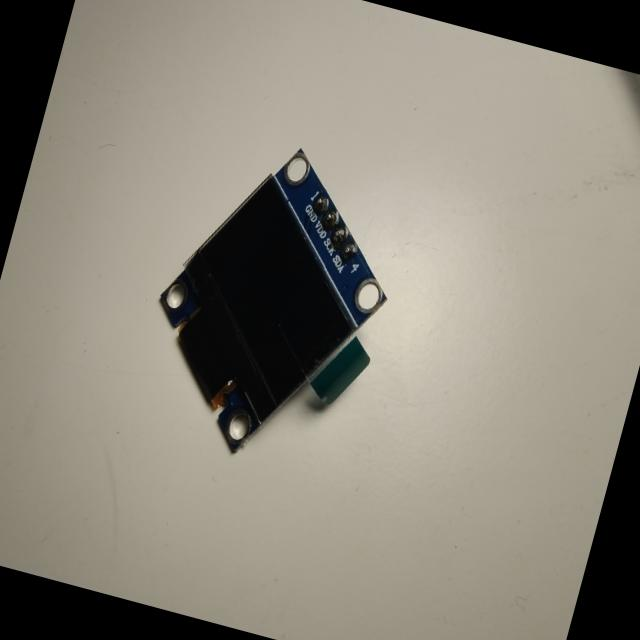oled: (117, 113, 429, 494)
